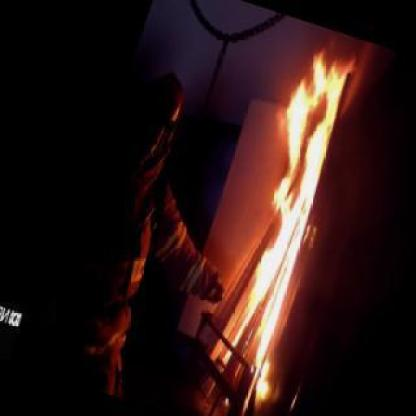Fire: (191, 31, 371, 398)
